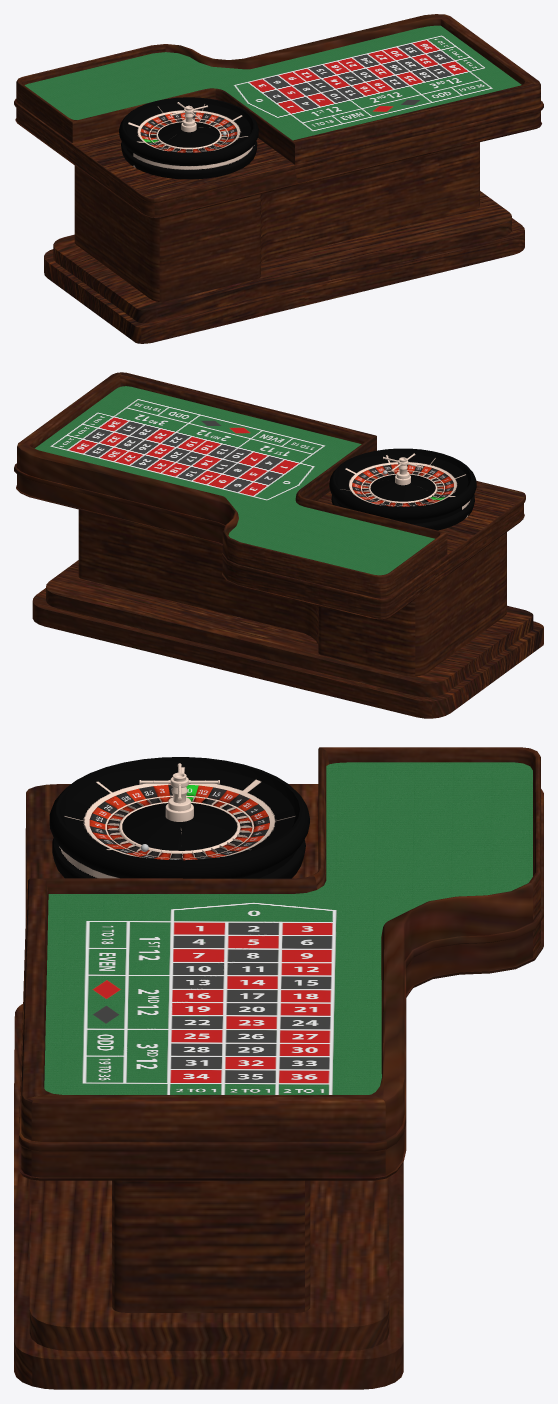
File: v2_Roulette Table.fbx
3 views of the same model, one above another, from view 1: azimuth 30°, elevation 25°; view 2: azimuth 150°, elevation 25°; view 3: azimuth 270°, elevation 25° (orthographic). The views are drawn at different scales.
Visible parts, largest first — view 1: Table.003_Table_0.001, Table.003_Wheel_0.001; view 2: Table.003_Table_0.001, Table.003_Wheel_0.001; view 3: Table.003_Table_0.001, Table.003_Wheel_0.001.
Part boxes in pixels (x1=…): Table.003_Table_0.001: x1=14, y1=14, x2=543, y2=343; Table.003_Wheel_0.001: x1=119, y1=97, x2=258, y2=179; Table.003_Table_0.001: x1=14, y1=372, x2=543, y2=718; Table.003_Wheel_0.001: x1=329, y1=448, x2=476, y2=530; Table.003_Table_0.001: x1=14, y1=747, x2=543, y2=1389; Table.003_Wheel_0.001: x1=49, y1=757, x2=309, y2=878.
Bounding box in the file's own units: 733 × 314 × 441.
